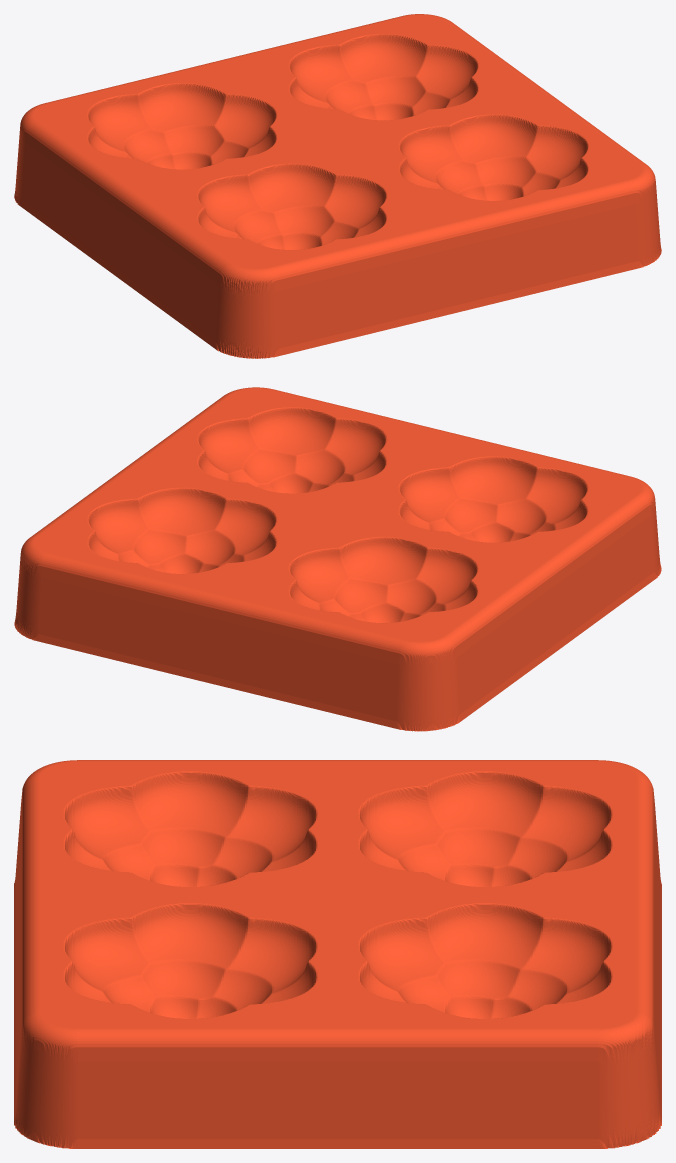
Rendered from mold.glb.
3 views of the same model, one above another, from view 1: azimuth 30°, elevation 25°; view 2: azimuth 150°, elevation 25°; view 3: azimuth 270°, elevation 25° (orthographic). The views are drawn at different scales.
Parts seen in each view (by area): view 1: geometry_0; view 2: geometry_0; view 3: geometry_0.
Part boxes in pixels (<box>): geometry_0: <box>14,14,661,358</box>; geometry_0: <box>14,387,661,731</box>; geometry_0: <box>14,760,661,1148</box>.
Size of the model in its own units: 0.0962 by 0.0171 by 0.0914.
